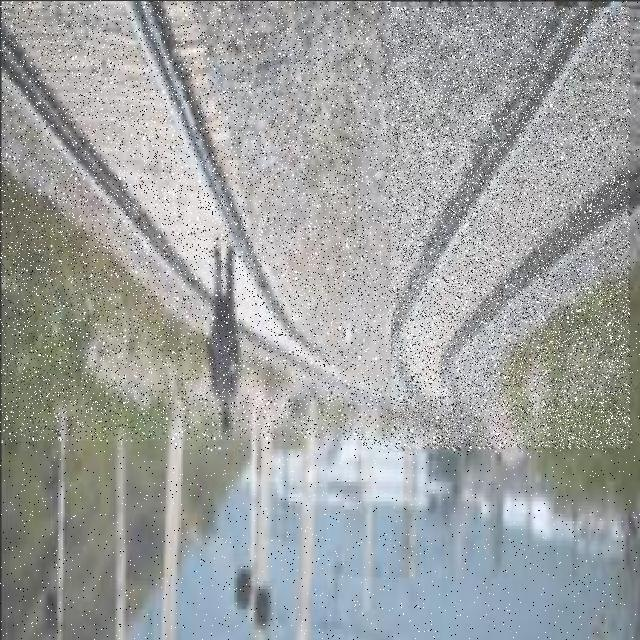rail: (1, 2, 392, 442), (364, 8, 630, 449)
